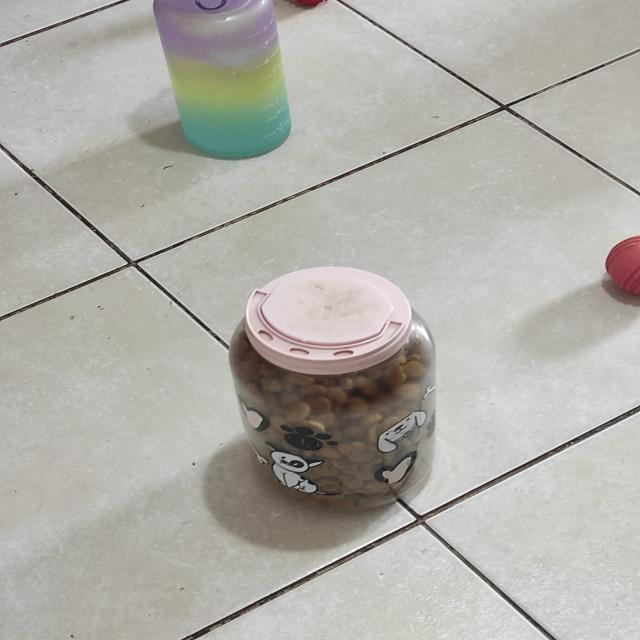bolinha: (588, 237, 640, 296)
garrafinha de agua: (120, 0, 317, 165)
racao: (206, 260, 456, 531)
